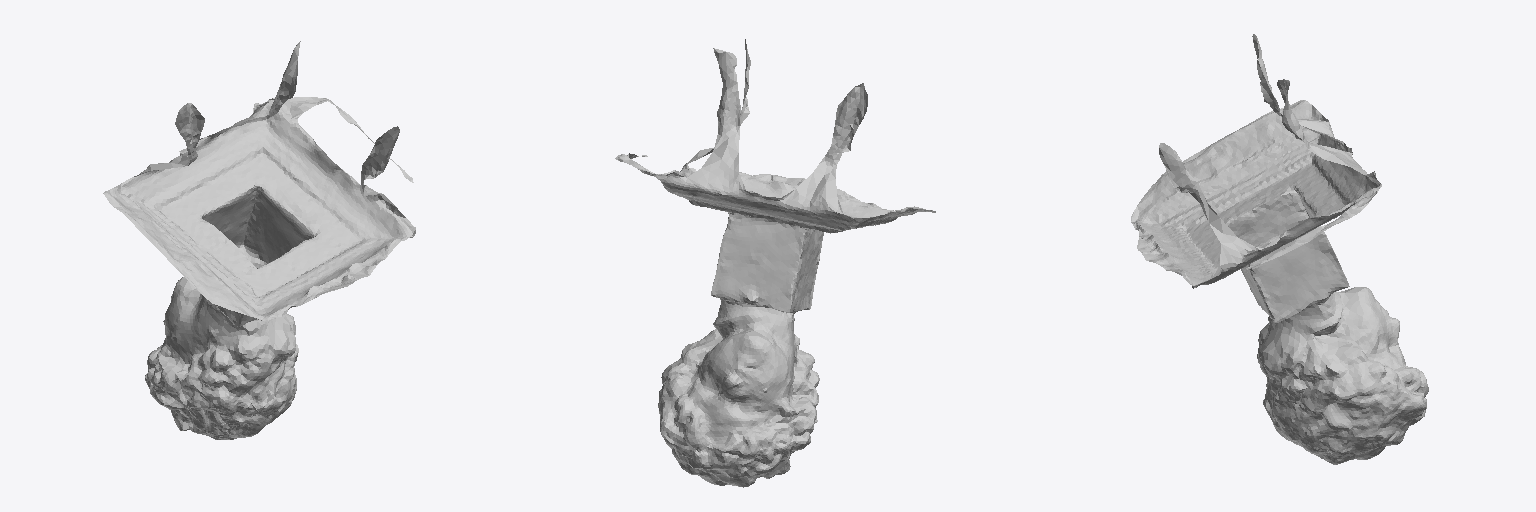
Rendered from outobj1.obj.
The picture shows the model from 3 angles: view 1: azimuth 30°, elevation 25°; view 2: azimuth 150°, elevation 25°; view 3: azimuth 270°, elevation 25°; orthographic projection.
Bounding box in the file's own units: 5.3 × 7.18 × 4.86.